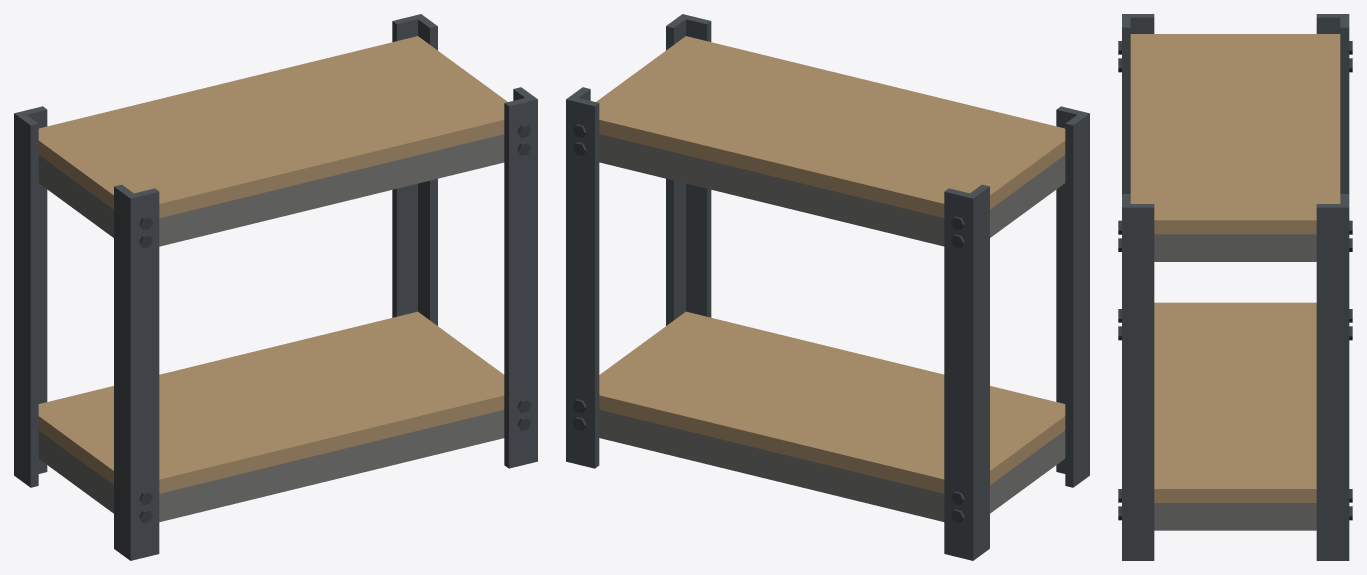
The model's file is SM_Prop_Shelves_Short_02.fbx.
3 renders of one model, left to right at view 1: azimuth 30°, elevation 25°; view 2: azimuth 150°, elevation 25°; view 3: azimuth 270°, elevation 25°, orthographic. The views are drawn at different scales.
Parts seen in each view (by area): view 1: SM_Prop_Shelves_Short_02; view 2: SM_Prop_Shelves_Short_02; view 3: SM_Prop_Shelves_Short_02.
Part boxes in pixels (x1,y1,x2,y2): SM_Prop_Shelves_Short_02: [14, 14, 537, 560]; SM_Prop_Shelves_Short_02: [566, 14, 1089, 560]; SM_Prop_Shelves_Short_02: [1118, 14, 1352, 560].
Bounding box in the file's own units: 124 × 106 × 63.47.
